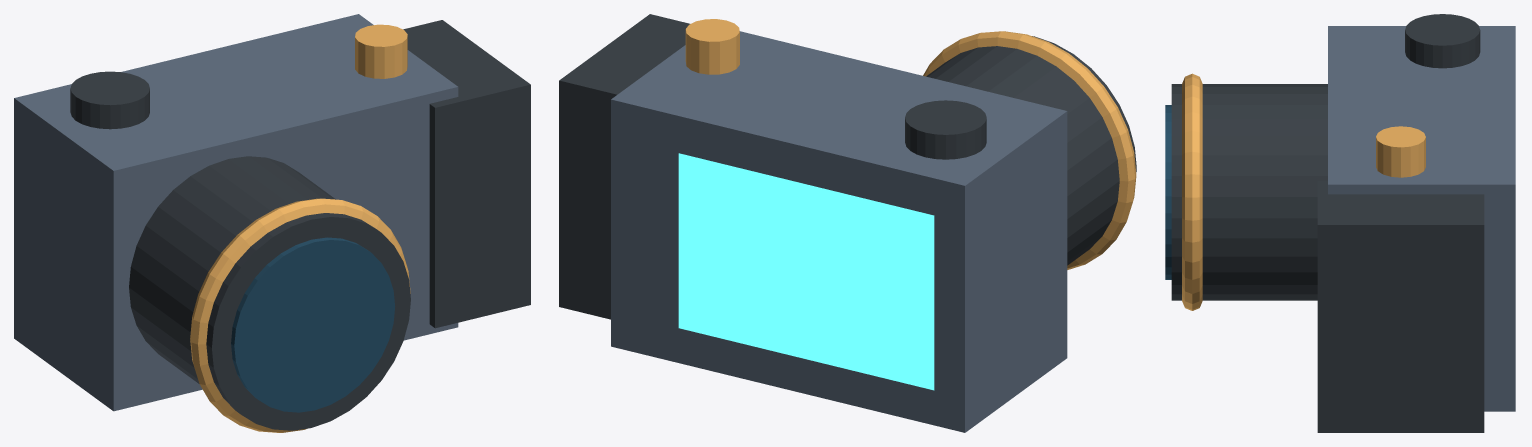
File: survey-camera.glb
The picture shows the model from 3 angles, left to right: view 1: azimuth 30°, elevation 25°; view 2: azimuth 150°, elevation 25°; view 3: azimuth 270°, elevation 25°; orthographic projection. The views are drawn at different scales.
Visible parts, largest first — view 1: Camera_Body, Lens_Barrel, Camera_Grip, Lens_Glass, Lens_Ring, Mode_Dial, Shutter_Button; view 2: Camera_Body, Screen_Display, Camera_Grip, Lens_Barrel, Lens_Ring, Mode_Dial, Shutter_Button; view 3: Camera_Grip, Camera_Body, Lens_Barrel, Lens_Ring, Mode_Dial, Shutter_Button, Lens_Glass.
Boxes of the visible parts, x1=… form: Camera_Body: x1=14, y1=14, x2=458, y2=411; Lens_Barrel: x1=129, y1=156, x2=410, y2=430; Camera_Grip: x1=403, y1=20, x2=530, y2=328; Lens_Glass: x1=231, y1=237, x2=395, y2=412; Lens_Ring: x1=190, y1=198, x2=410, y2=432; Mode_Dial: x1=70, y1=71, x2=149, y2=129; Shutter_Button: x1=355, y1=24, x2=407, y2=78; Camera_Body: x1=611, y1=31, x2=1067, y2=432; Screen_Display: x1=678, y1=153, x2=934, y2=390; Camera_Grip: x1=559, y1=14, x2=689, y2=319; Lens_Barrel: x1=926, y1=36, x2=1136, y2=265; Lens_Ring: x1=923, y1=31, x2=1136, y2=269; Mode_Dial: x1=905, y1=100, x2=986, y2=159; Shutter_Button: x1=685, y1=19, x2=739, y2=74; Camera_Grip: x1=1317, y1=181, x2=1484, y2=432; Camera_Body: x1=1328, y1=26, x2=1515, y2=411; Lens_Barrel: x1=1171, y1=84, x2=1327, y2=300; Lens_Ring: x1=1182, y1=73, x2=1202, y2=310; Mode_Dial: x1=1405, y1=14, x2=1480, y2=68; Shutter_Button: x1=1376, y1=126, x2=1425, y2=177; Lens_Glass: x1=1165, y1=105, x2=1171, y2=279.
Bounding box in the file's own units: 0.215 × 0.136 × 0.169.
